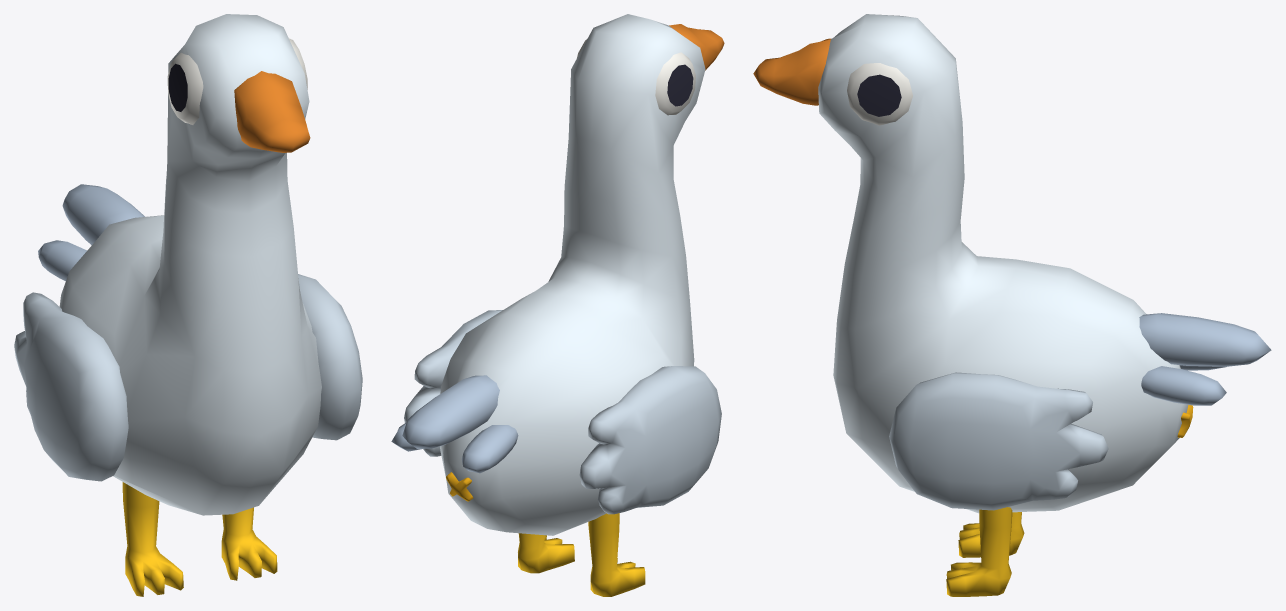
Rendered from Goose.glb.
3 views of the same model, side by side, from view 1: azimuth 30°, elevation 25°; view 2: azimuth 150°, elevation 25°; view 3: azimuth 270°, elevation 25° (orthographic). The views are drawn at different scales.
Parts seen in each view (by area): view 1: Goose; view 2: Goose; view 3: Goose.
Part boxes in pixels (bbox=[...]): Goose: bbox=[14, 14, 362, 596]; Goose: bbox=[391, 14, 724, 596]; Goose: bbox=[753, 14, 1271, 596].
Size of the model in its own units: 1.4 by 2.79 by 2.42.
Materials: 1 (1 with a texture image).
